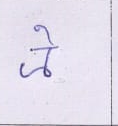o_matra: (41, 25, 54, 79)
